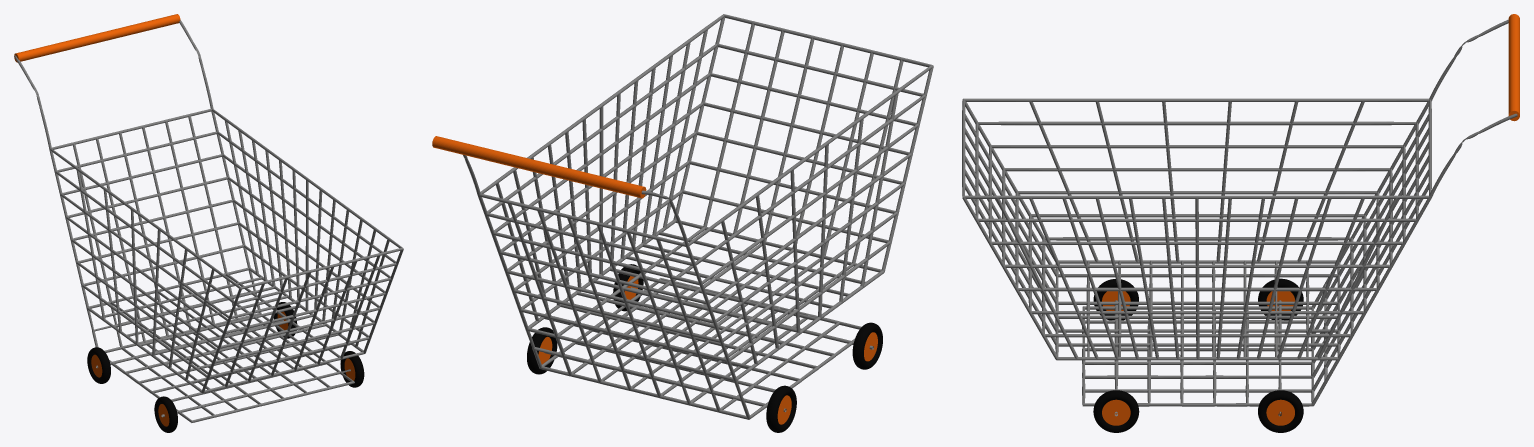
The model's file is Cart.fbx.
The picture shows the model from 3 angles, left to right: view 1: azimuth 30°, elevation 25°; view 2: azimuth 150°, elevation 25°; view 3: azimuth 270°, elevation 25°; orthographic projection. The views are drawn at different scales.
Visible parts, largest first — view 1: Cart, Handle, Torus.002, Torus.001, Torus; view 2: Cart, Handle, Torus.002, Torus.001, Torus.003, Torus; view 3: Cart, Torus, Torus.003, Handle, Torus.002, Torus.001.
Part boxes in pixels (<box>): Cart: <box>14,19,403,422</box>; Handle: <box>14,14,180,62</box>; Torus.002: <box>87,347,110,383</box>; Torus.001: <box>154,396,177,432</box>; Torus: <box>340,351,364,387</box>; Cart: <box>432,14,933,419</box>; Handle: <box>432,136,646,198</box>; Torus.002: <box>766,385,796,432</box>; Torus.001: <box>852,322,882,369</box>; Torus.003: <box>527,327,557,374</box>; Torus: <box>613,264,643,311</box>; Cart: <box>962,19,1517,416</box>; Torus: <box>1093,390,1139,432</box>; Torus.003: <box>1258,390,1303,432</box>; Handle: <box>1508,14,1519,121</box>; Torus.002: <box>1258,278,1303,320</box>; Torus.001: <box>1093,279,1138,320</box>.
Size of the model in its own units: 241 by 303 by 487.
